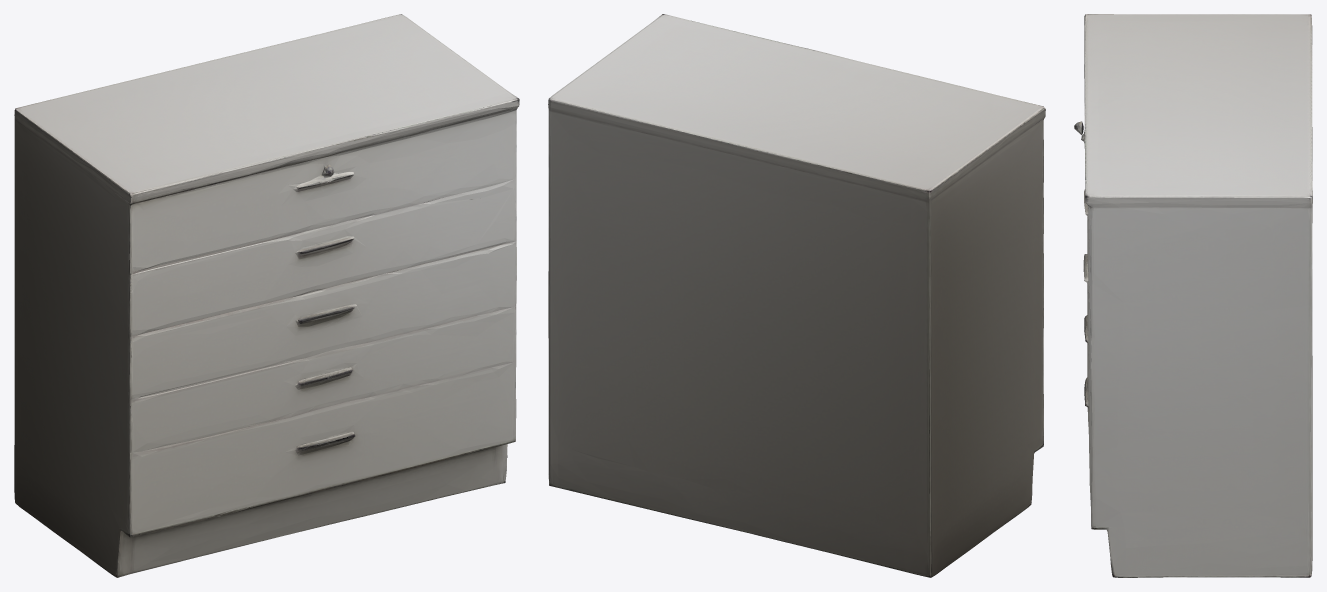
File: mw5dgc_5_drawer_chest_coffeecappucin.glb
The picture shows the model from 3 angles, left to right: view 1: azimuth 30°, elevation 25°; view 2: azimuth 150°, elevation 25°; view 3: azimuth 270°, elevation 25°; orthographic projection. The views are drawn at different scales.
Visible parts, largest first — view 1: world; view 2: world; view 3: world.
Part boxes in pixels (left/top/right/bottom): world: left=14, top=14, right=519, bottom=577; world: left=548, top=14, right=1045, bottom=577; world: left=1074, top=14, right=1312, bottom=577.
Bounding box in the file's own units: 0.4908 × 0.4756 × 0.2698.
1 material, 1 textured.
